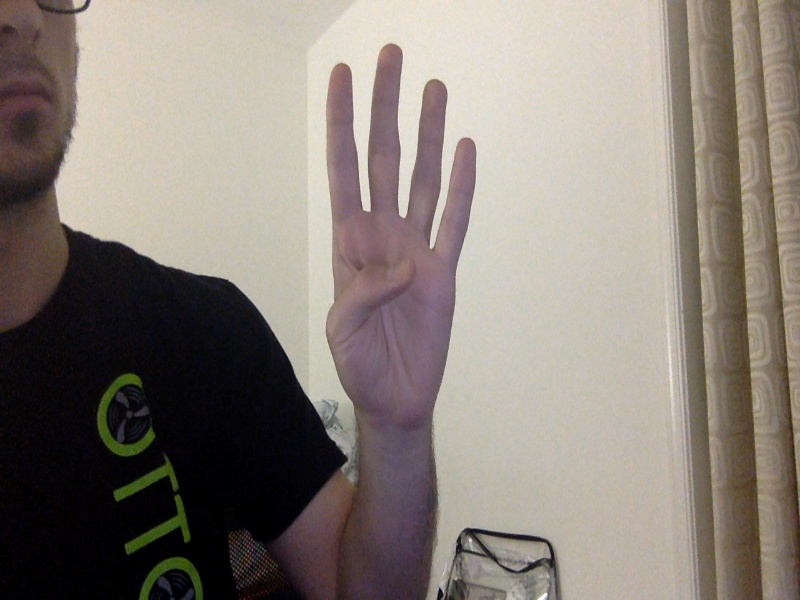4-hand: (327, 41, 476, 418)
